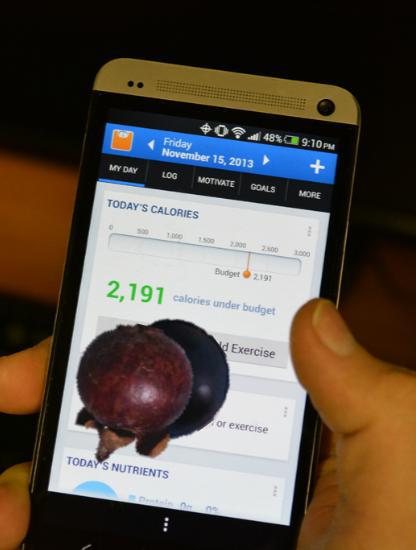Cherry: (169, 377, 223, 431)
Grape: (113, 320, 230, 437)
Mangostan: (58, 324, 204, 470)
